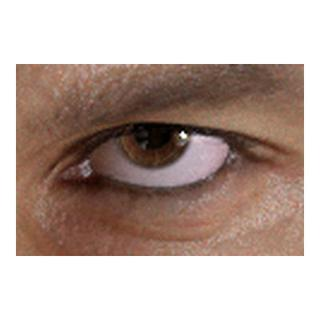pupil: (134, 110, 172, 149)
